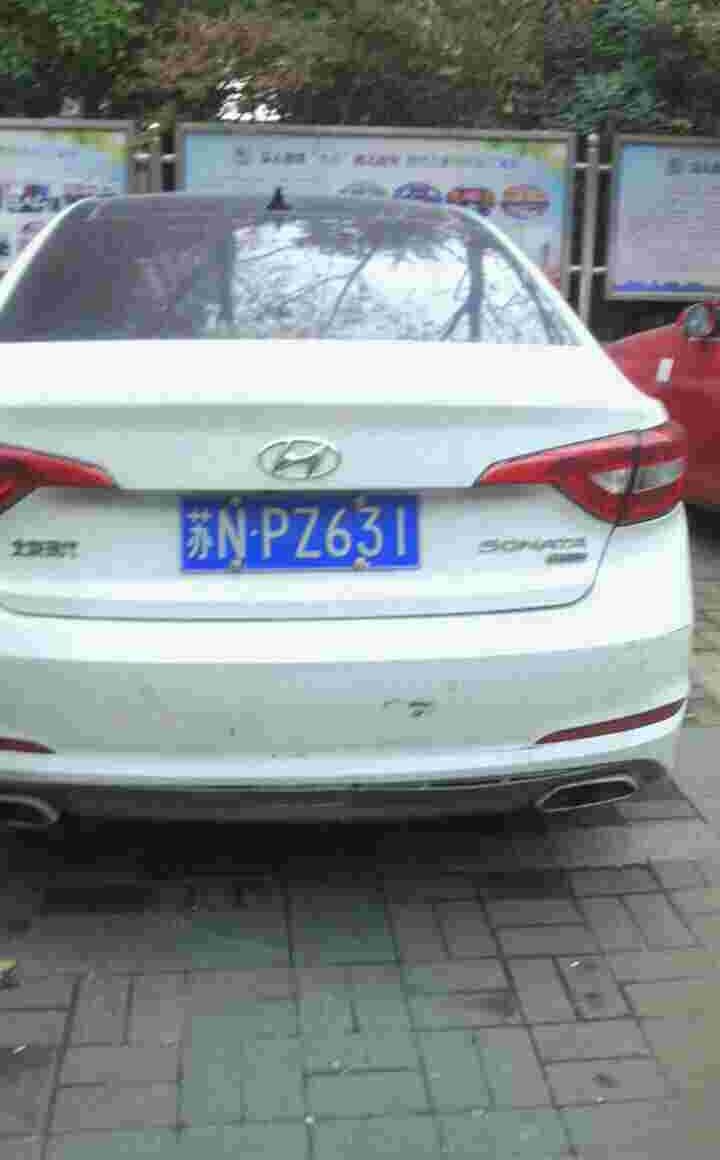license_plate: (174, 495, 415, 576)
